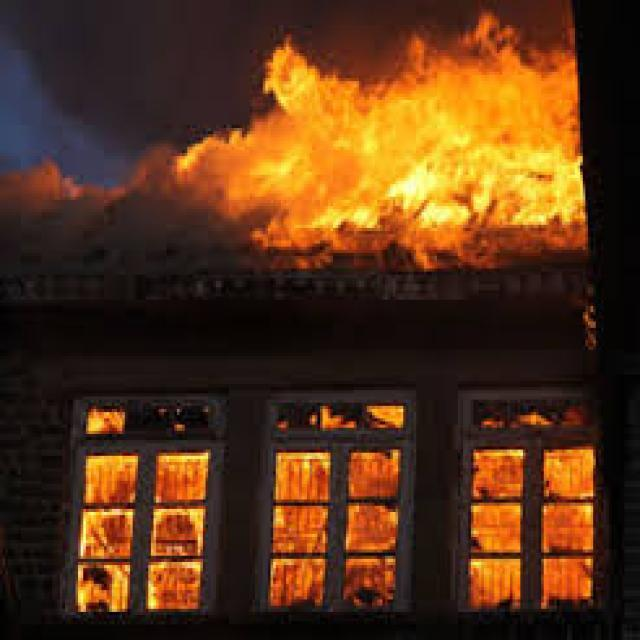Fire: (167, 28, 594, 243), (395, 11, 586, 233), (80, 413, 207, 628), (270, 448, 400, 616), (480, 446, 594, 602), (284, 396, 405, 445), (85, 452, 137, 503), (86, 410, 124, 434)
Smoke: (20, 0, 174, 253)
